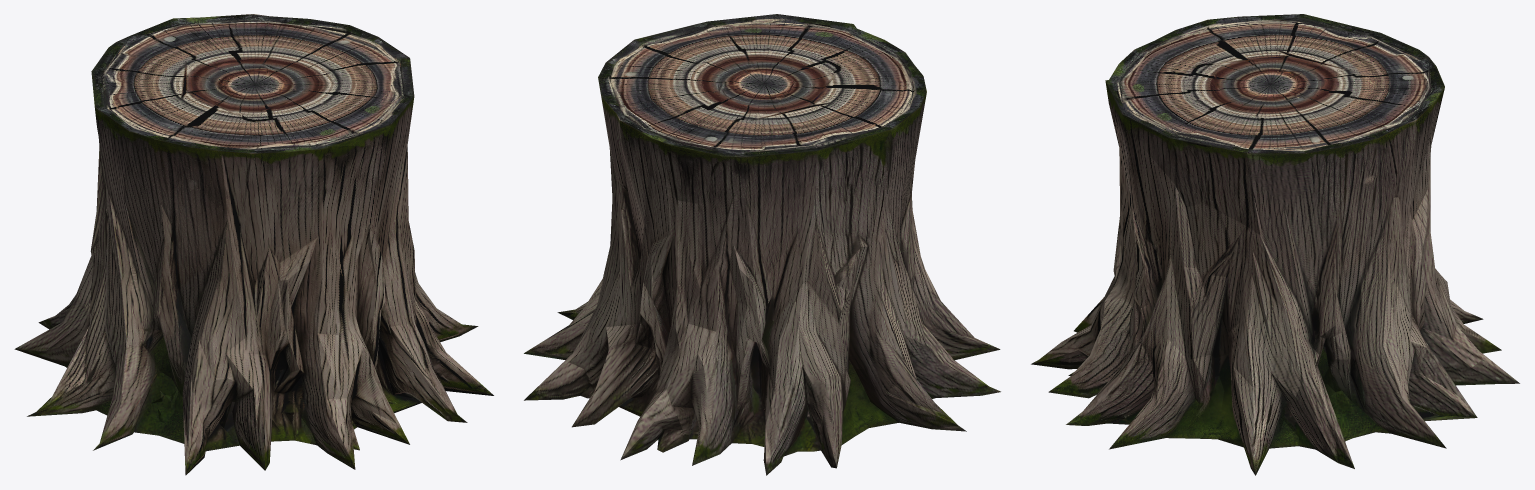
The picture shows the model from 3 angles, left to right: view 1: azimuth 30°, elevation 25°; view 2: azimuth 150°, elevation 25°; view 3: azimuth 270°, elevation 25°; orthographic projection.
Bounding box in the file's own units: 1.89 × 1.23 × 1.87.
1 material, 1 textured.
